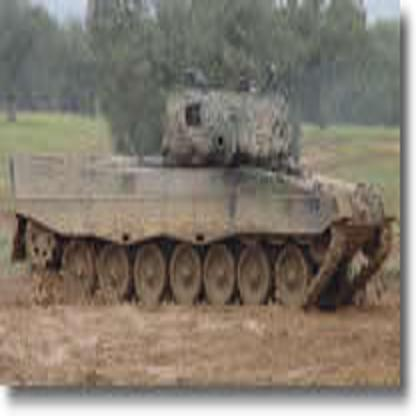Tank: (7, 64, 393, 315)
